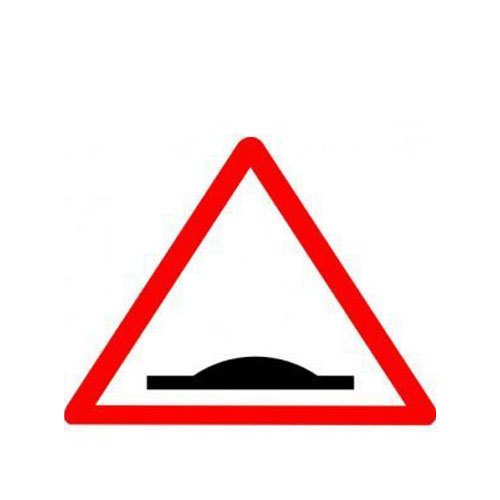speed-breaker: (83, 166, 417, 424)
